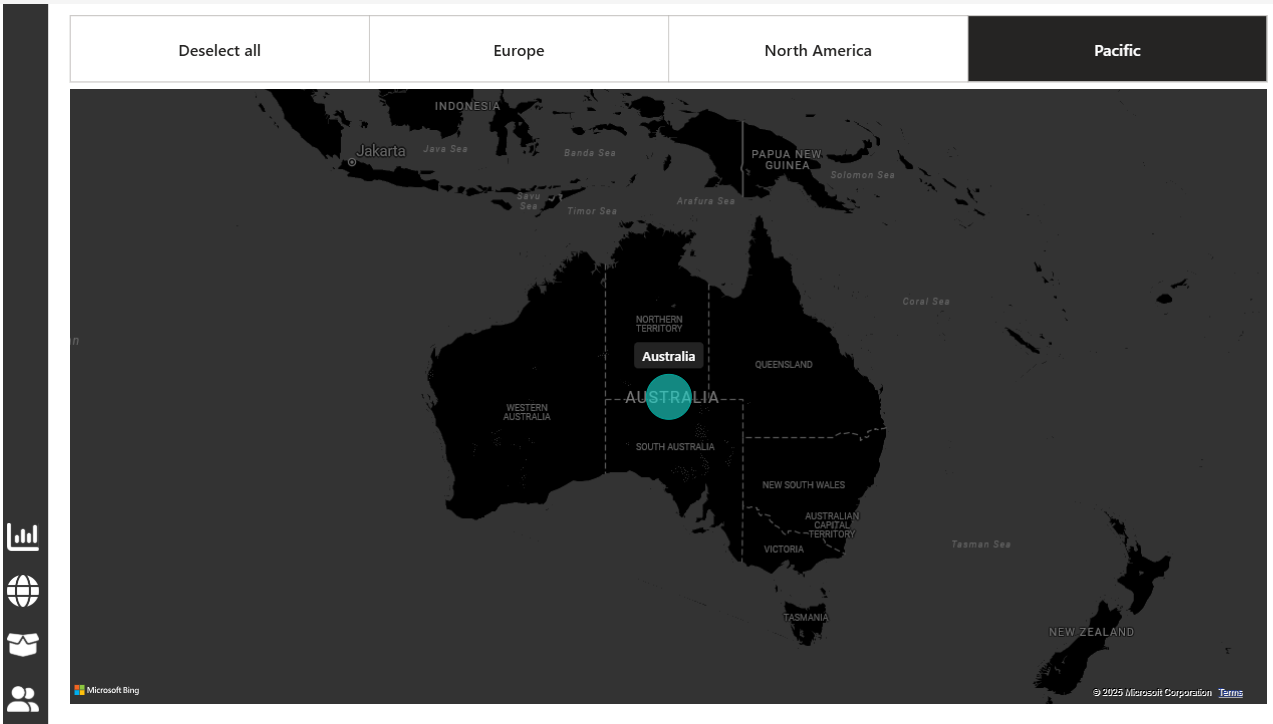

What the dashboard file says about the page in this screenshot:
{"tool":"powerbi","page":{"name":"Map","canvas":[1280,720],"ordinal":1},"visuals":[{"type":"shape","box":[0,0,45,720],"z":0},{"type":"map","fields":{"Category":["Territory Lookup.Country"],"Size":["Measure Table (2).Total Orders"]},"box":[61.7,79.7,1203,623.4],"z":1000},{"type":"actionButton","box":[0,510.2,99.4,39.8],"z":1000,"group":"g1"},{"type":"advancedSlicerVisual","fields":{"Values":["Territory Lookup.Continent"]},"box":[61.7,6,1203,77.7],"z":2000},{"type":"actionButton","box":[0,563.8,99.4,39.8],"z":2000,"group":"g1"},{"type":"group","id":"g1","title":"Navigations","box":[0,510.2,99.4,200.4],"z":3000},{"type":"actionButton","box":[0,617.3,99.4,39.8],"z":3000,"group":"g1"},{"type":"actionButton","box":[0,670.9,99.4,39.8],"z":4000,"group":"g1"}]}

Visuals, with their boxes in screenshot pixels (x1, y1, x2, y2):
shape: box(0, 7, 44, 713)
map - Territory Lookup.Country x Measure Table (2).Total Orders: box(61, 85, 1240, 696)
actionButton: box(0, 507, 97, 546)
advancedSlicerVisual - Territory Lookup.Continent: box(61, 13, 1240, 89)
actionButton: box(0, 560, 97, 599)
"Navigations" group: box(0, 507, 97, 704)
actionButton: box(0, 612, 97, 651)
actionButton: box(0, 665, 97, 704)
